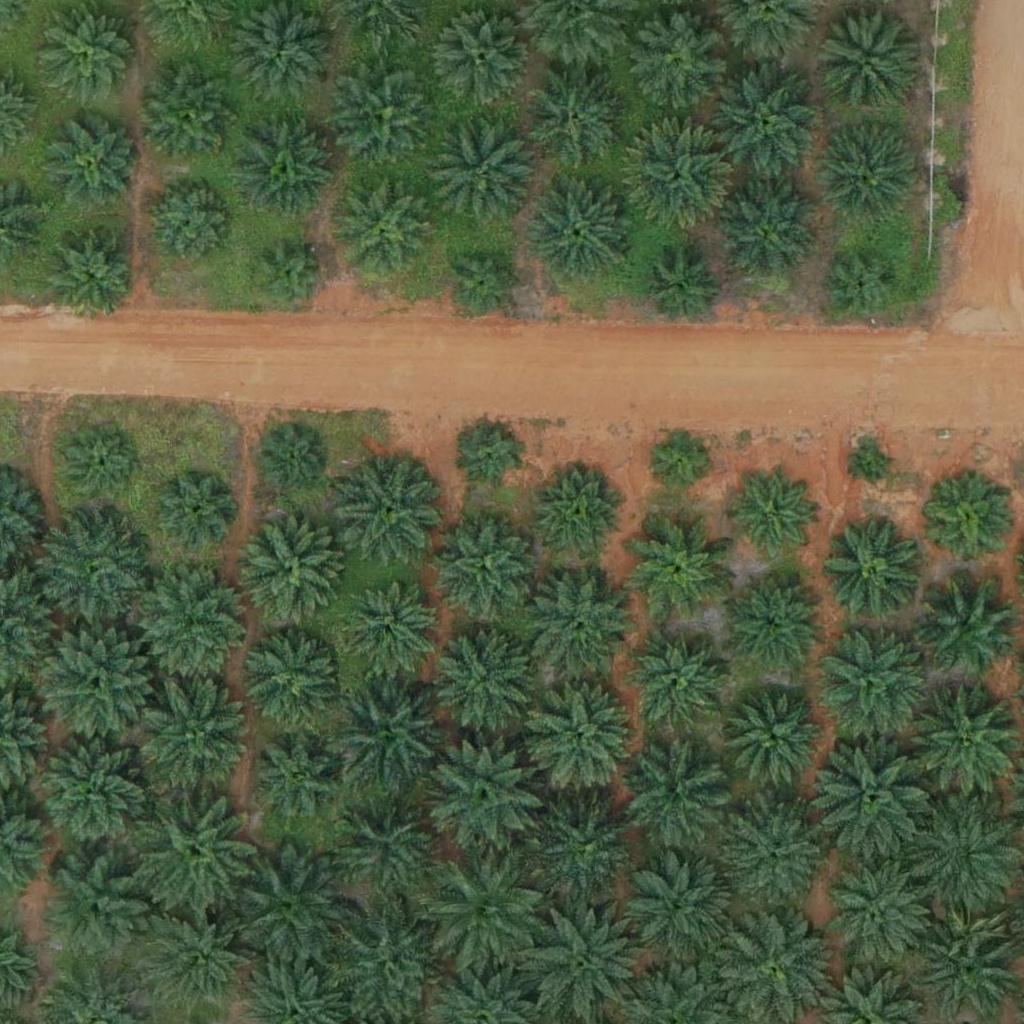Kelapa_Sawit: (32, 732, 157, 858), (133, 674, 258, 800), (132, 789, 257, 915), (228, 845, 353, 971), (324, 665, 449, 791), (323, 784, 448, 910), (424, 734, 549, 860), (422, 852, 547, 978), (807, 738, 932, 864), (520, 677, 645, 802), (910, 686, 1023, 800), (710, 64, 823, 177), (36, 856, 149, 969), (136, 567, 249, 680), (39, 623, 151, 737), (144, 902, 256, 1016), (623, 125, 735, 238), (34, 508, 146, 621), (816, 621, 928, 734), (819, 857, 931, 970), (909, 906, 1021, 1019), (717, 182, 817, 283), (526, 73, 626, 174), (530, 180, 630, 281), (433, 9, 533, 110), (433, 118, 533, 219), (334, 67, 434, 168), (334, 179, 434, 280), (235, 121, 335, 222), (140, 65, 240, 166), (38, 6, 138, 107), (241, 517, 341, 618), (240, 632, 340, 733), (343, 458, 443, 559), (337, 579, 437, 680), (434, 515, 534, 616), (434, 627, 534, 728), (529, 572, 629, 673), (537, 799, 637, 900), (631, 519, 731, 620), (626, 634, 726, 735), (627, 748, 727, 849), (631, 852, 731, 953), (723, 571, 823, 672), (725, 687, 825, 788), (722, 803, 822, 904), (815, 10, 915, 110), (820, 124, 920, 224), (627, 13, 727, 113), (41, 223, 141, 323), (247, 728, 347, 828), (823, 516, 923, 616), (918, 574, 1018, 674), (146, 179, 234, 267), (728, 471, 816, 559), (51, 119, 138, 207), (540, 468, 627, 556), (927, 480, 1014, 568), (63, 429, 138, 505), (826, 246, 901, 322), (252, 238, 327, 314), (160, 473, 235, 548), (644, 252, 719, 327), (448, 246, 523, 321), (261, 427, 324, 490), (461, 425, 523, 488), (647, 426, 709, 489), (854, 446, 891, 484)
